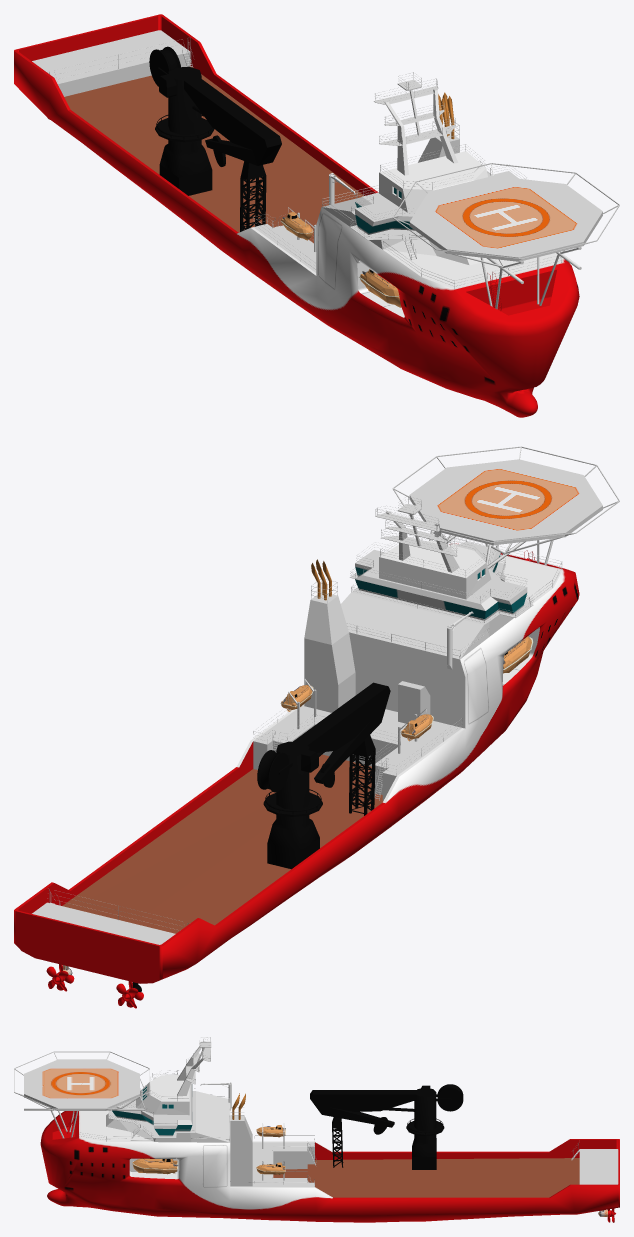
3 views of the same model, one above another, from view 1: azimuth 30°, elevation 25°; view 2: azimuth 150°, elevation 25°; view 3: azimuth 270°, elevation 25° (orthographic). The views are drawn at different scales.
Visible parts, largest first — view 1: OsvHull, OsvHailipad, OsvCrane, OsvRearPlatform, OsvSubstructure, OsvSubstructureSmall, OsvFence, OsvTowers, OsvCraneholder, Osv2ndFloor, OsvHeilipadHolder, OsvLifeboatBig (+1 smaller); view 2: OsvHull, OsvHailipad, OsvSubstructure, OsvCrane, Osv2ndFloor, OsvChimney, OsvSubstructureSmall, OsvFence, OsvTowers, OsvRearPlatform, OsvCraneholder, OsvVent (+1 smaller); view 3: OsvHull, OsvCrane, OsvHailipad, OsvSubstructure, Osv2ndFloor, OsvSubstructureSmall, OsvChimney, OsvRearPlatform, OsvFence, OsvTowers, OsvLifeboatBig, OsvLifeboat (+2 smaller).
Boxes of the visible parts, bbox=[...] form: OsvHull: bbox=[14, 14, 579, 417]; OsvHailipad: bbox=[392, 163, 619, 261]; OsvCrane: bbox=[149, 46, 281, 195]; OsvRearPlatform: bbox=[32, 30, 190, 96]; OsvSubstructure: bbox=[322, 171, 518, 265]; OsvSubstructureSmall: bbox=[379, 151, 487, 213]; OsvFence: bbox=[49, 37, 562, 310]; OsvTowers: bbox=[374, 79, 457, 175]; OsvCraneholder: bbox=[240, 161, 266, 231]; Osv2ndFloor: bbox=[253, 224, 316, 272]; OsvHeilipadHolder: bbox=[409, 214, 602, 309]; OsvLifeboatBig: bbox=[359, 269, 401, 307]; OsvHull: bbox=[14, 543, 579, 983]; OsvHailipad: bbox=[392, 446, 619, 545]; OsvSubstructure: bbox=[341, 541, 533, 659]; OsvCrane: bbox=[257, 682, 390, 869]; Osv2ndFloor: bbox=[253, 704, 461, 800]; OsvChimney: bbox=[304, 592, 355, 712]; OsvSubstructureSmall: bbox=[379, 540, 491, 599]; OsvFence: bbox=[47, 496, 562, 930]; OsvTowers: bbox=[375, 504, 459, 572]; OsvRearPlatform: bbox=[32, 902, 175, 944]; OsvCraneholder: bbox=[349, 735, 375, 815]; OsvVent: bbox=[398, 681, 430, 723]; OsvHull: bbox=[40, 1110, 619, 1222]; OsvCrane: bbox=[310, 1084, 463, 1169]; OsvHailipad: bbox=[14, 1051, 149, 1110]; OsvSubstructure: bbox=[106, 1077, 230, 1142]; Osv2ndFloor: bbox=[230, 1142, 314, 1186]; OsvSubstructureSmall: bbox=[136, 1074, 189, 1115]; OsvChimney: bbox=[230, 1115, 252, 1186]; OsvRearPlatform: bbox=[579, 1149, 618, 1184]; OsvFence: bbox=[67, 1037, 578, 1186]; OsvTowers: bbox=[177, 1041, 211, 1096]; OsvLifeboatBig: bbox=[132, 1158, 178, 1174]; OsvLifeboat: bbox=[256, 1125, 285, 1174].
Size of the model in its own units: 2837 by 4192 by 12634.
